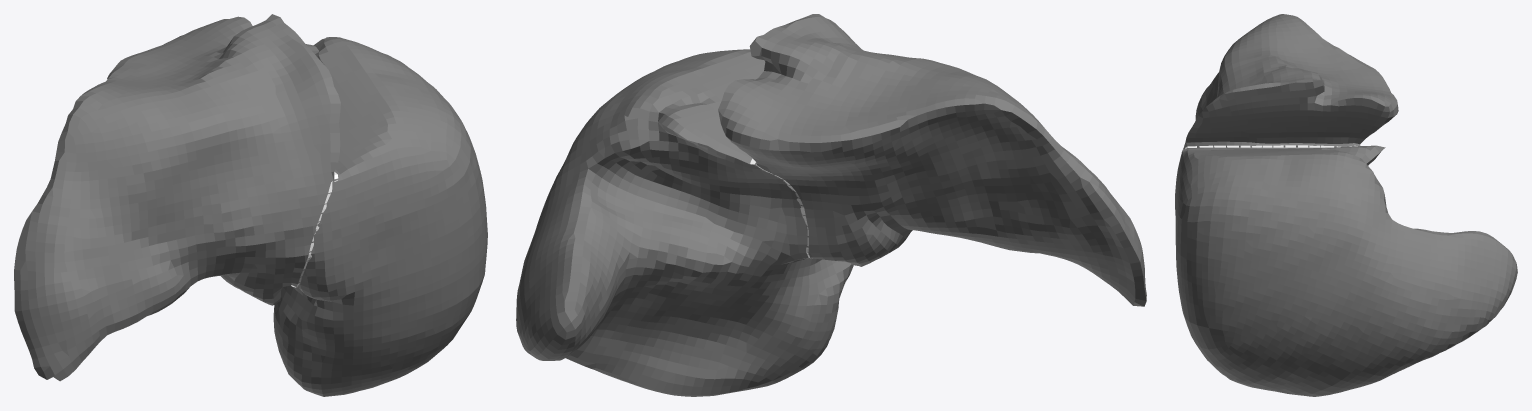
The model's file is Resektionsebene_Ungeschnitten_Mit_Band.FBX.
The picture shows the model from 3 angles, left to right: view 1: azimuth 30°, elevation 25°; view 2: azimuth 150°, elevation 25°; view 3: azimuth 270°, elevation 25°; orthographic projection. The views are drawn at different scales.
Parts seen in each view (by area): view 1: 10K; view 2: 10K; view 3: 10K, Resektionsebene.
Part boxes in pixels (x1,y1,x2,y2): 10K: [14, 14, 487, 396]; 10K: [516, 14, 1146, 396]; 10K: [1175, 14, 1517, 396]; Resektionsebene: [1181, 145, 1357, 155].
Bounding box in the file's own units: 49.2 × 34.7 × 37.63.
2 materials, 1 textured.
